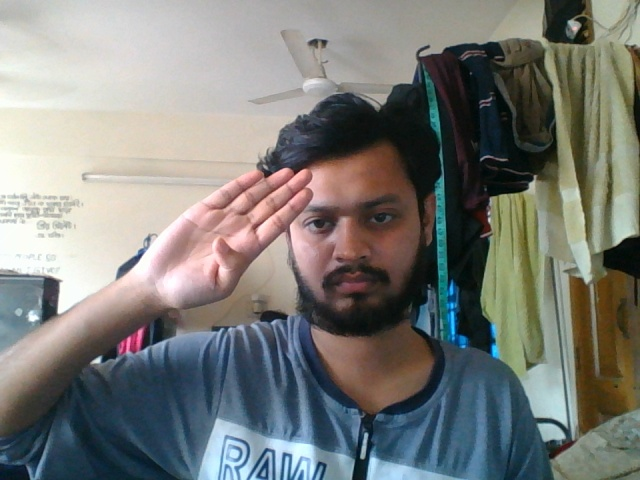salam: (112, 161, 316, 335)
